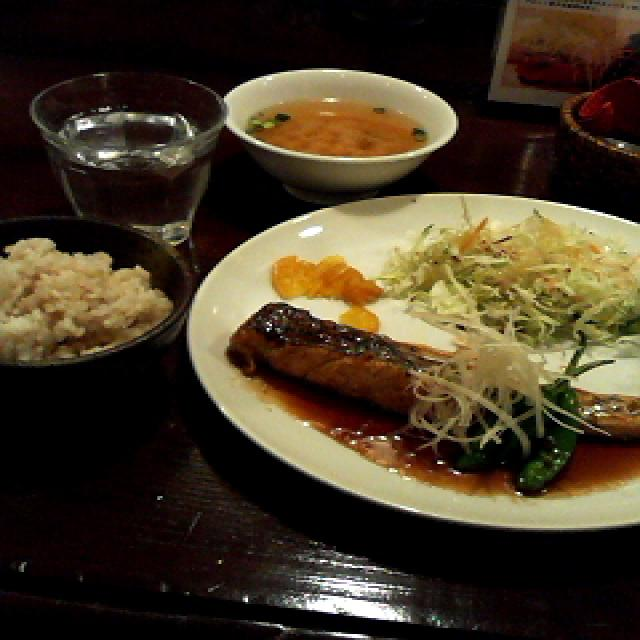熟制海鲜: (181, 276, 640, 508)
